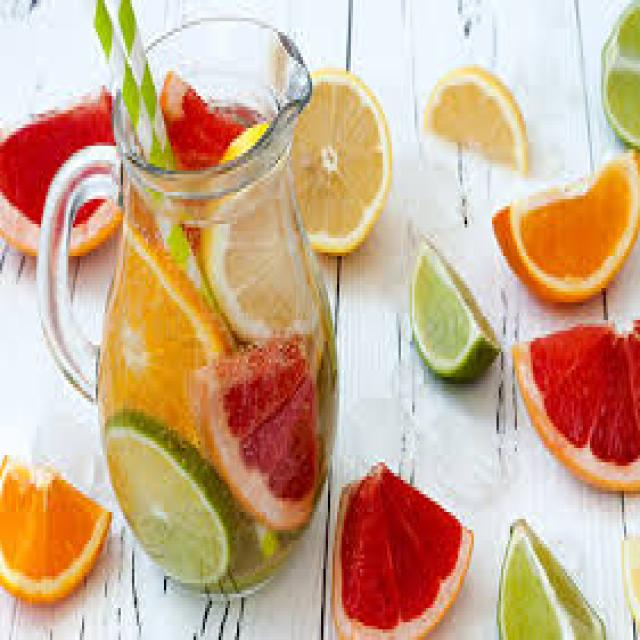Organik: (336, 456, 476, 640), (499, 149, 640, 295), (212, 328, 316, 516), (114, 233, 216, 424), (118, 413, 226, 589), (513, 331, 640, 476), (6, 88, 125, 241), (0, 441, 107, 601), (299, 74, 394, 237), (429, 66, 529, 176), (505, 522, 593, 640), (416, 245, 480, 387), (606, 11, 640, 142)
